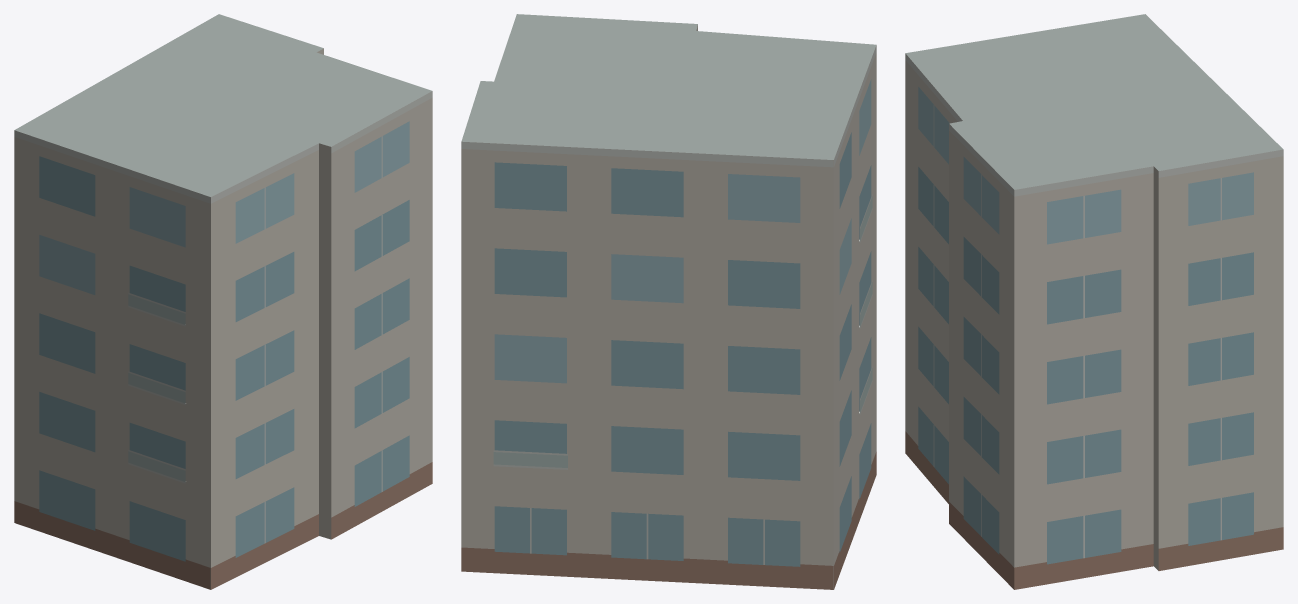
Rendered from survey-upis-32866921.glb.
3 views of the same model, side by side, from view 1: azimuth 30°, elevation 25°; view 2: azimuth 150°, elevation 25°; view 3: azimuth 270°, elevation 25° (orthographic). The views are drawn at different scales.
Visible parts, largest first — view 1: survey-upis-32866921.tmp; view 2: survey-upis-32866921.tmp; view 3: survey-upis-32866921.tmp.
Part boxes in pixels (left/top/right/bottom): survey-upis-32866921.tmp: left=14, top=14, right=432, bottom=589; survey-upis-32866921.tmp: left=461, top=14, right=876, bottom=589; survey-upis-32866921.tmp: left=905, top=14, right=1283, bottom=589.
Size of the model in its own units: 13.74 by 14.55 by 12.48.
